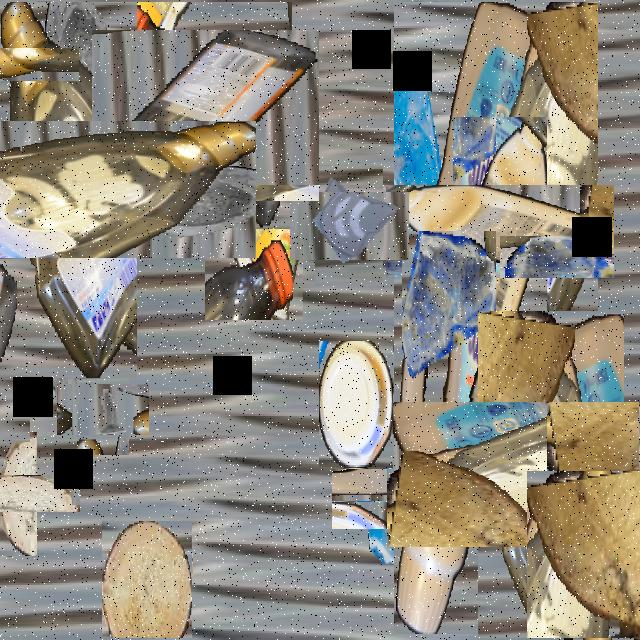glass: (402, 231, 496, 398), (5, 234, 95, 394), (348, 429, 466, 545), (302, 179, 396, 273)
metal: (517, 267, 579, 377), (67, 373, 139, 445), (0, 354, 30, 442)
plastic: (394, 2, 598, 634), (0, 61, 196, 318), (432, 356, 640, 592), (106, 16, 306, 215), (420, 151, 580, 311), (205, 146, 303, 320), (319, 342, 393, 469), (0, 24, 56, 103)
wood: (527, 471, 640, 638), (519, 450, 595, 638), (102, 521, 192, 638), (0, 453, 58, 534)
